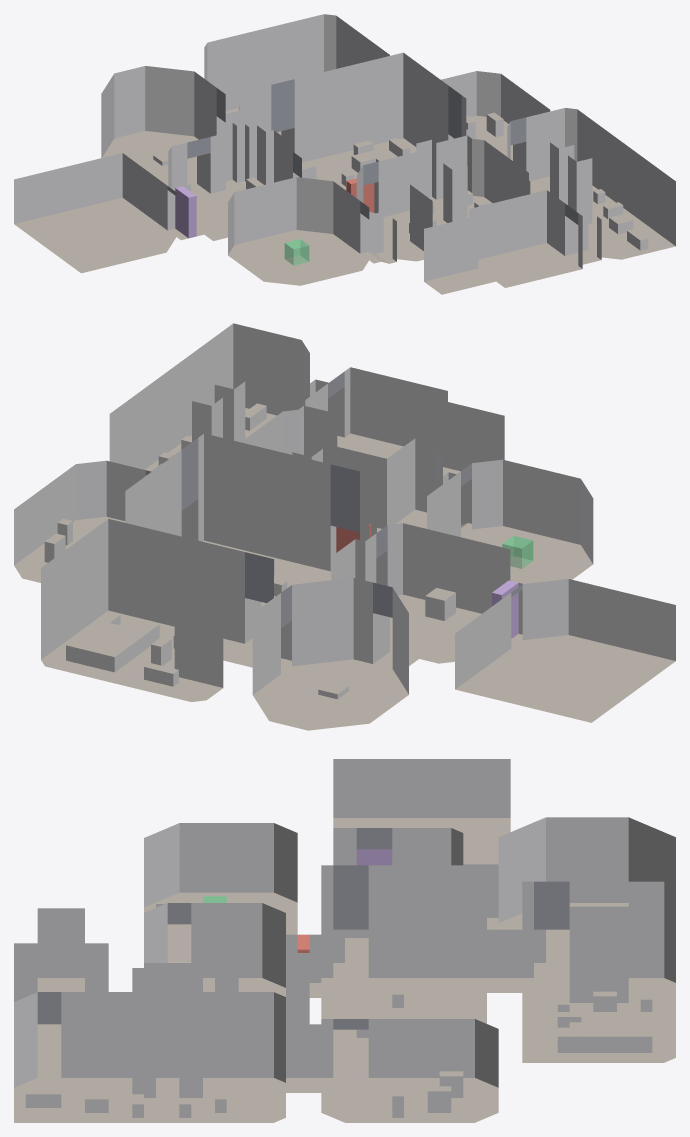
File: deck_02.glb
The picture shows the model from 3 angles, top to bottom: view 1: azimuth 30°, elevation 25°; view 2: azimuth 150°, elevation 25°; view 3: azimuth 270°, elevation 25°; orthographic projection. The views are drawn at different scales.
Parts seen in each view (by area): view 1: room:3, room:1, room:9, room:5, room:4, room:0, room:8, room:7, room:6, room:2, entities, corridor:4 (+3 smaller); view 2: room:8, room:9, room:3, room:7, room:1, room:5, room:6, room:0, room:4, room:2, entities, corridor:6 (+3 smaller); view 3: room:1, room:3, room:8, room:2, room:7, room:9, room:4, room:5, room:0, room:6, corridor:1, corridor:7 (+5 smaller).
Part boxes in pixels (bbox=[...]): room:3: bbox=[271, 52, 466, 190]; room:1: bbox=[507, 108, 675, 259]; room:9: bbox=[14, 153, 176, 273]; room:5: bbox=[228, 177, 369, 285]; room:4: bbox=[356, 135, 530, 261]; room:0: bbox=[424, 190, 582, 294]; room:8: bbox=[204, 14, 389, 135]; room:7: bbox=[101, 66, 225, 185]; room:6: bbox=[168, 122, 301, 240]; room:2: bbox=[441, 71, 550, 160]; entities: bbox=[175, 178, 374, 265]; corridor:4: bbox=[360, 211, 396, 263]; room:8: bbox=[41, 519, 273, 701]; room:9: bbox=[455, 579, 675, 722]; room:3: bbox=[125, 433, 369, 606]; room:7: bbox=[252, 578, 408, 730]; room:1: bbox=[109, 323, 309, 471]; room:5: bbox=[427, 459, 593, 583]; room:6: bbox=[331, 523, 510, 663]; room:0: bbox=[305, 367, 504, 475]; room:4: bbox=[241, 405, 442, 532]; room:2: bbox=[14, 460, 151, 582]; entities: bbox=[336, 524, 533, 638]; corridor:6: bbox=[373, 613, 418, 668]; room:1: bbox=[14, 992, 285, 1122]; room:3: bbox=[321, 865, 486, 1062]; room:8: bbox=[522, 881, 675, 1062]; room:2: bbox=[321, 1019, 498, 1122]; room:7: bbox=[498, 817, 675, 962]; room:9: bbox=[333, 759, 510, 864]; room:4: bbox=[132, 903, 309, 1024]; room:5: bbox=[144, 823, 297, 957]; room:0: bbox=[14, 908, 108, 1062]; room:6: bbox=[333, 828, 463, 962]; corridor:1: bbox=[286, 1024, 321, 1092]; corridor:7: bbox=[487, 929, 522, 992].
Bounding box in the file's own units: 61 × 10.5 × 56.
